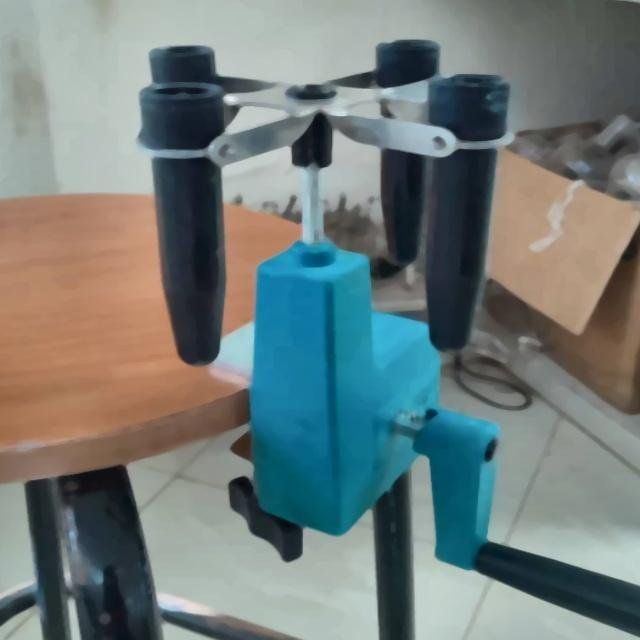Centrifuge: (136, 22, 555, 578)
